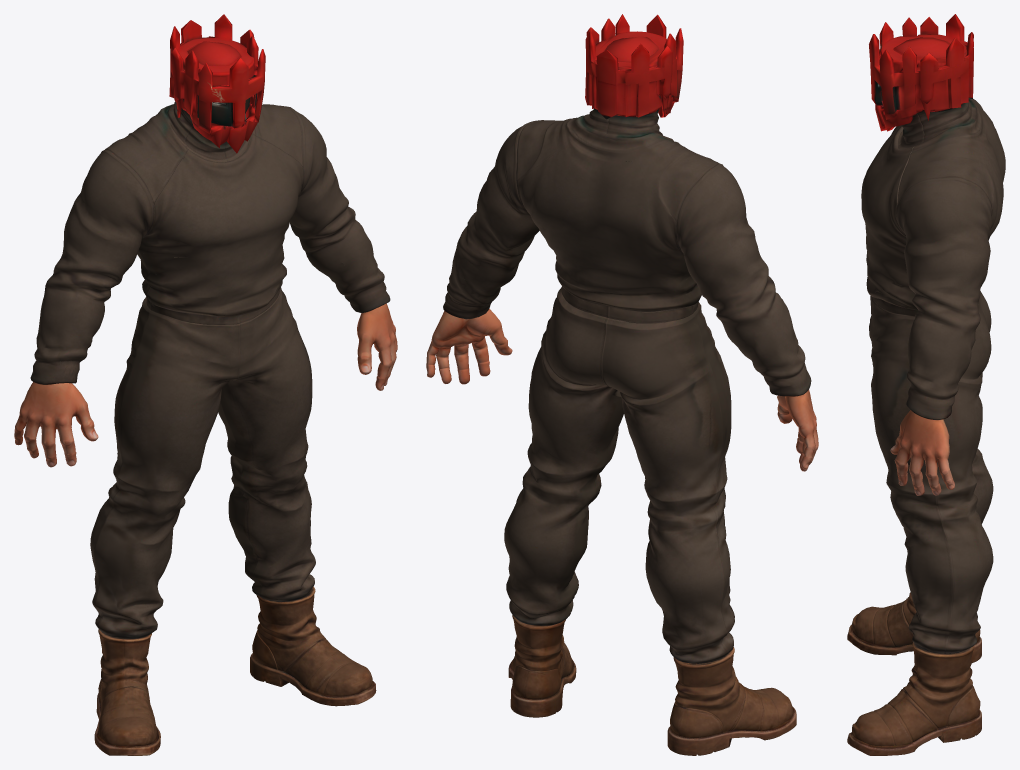
Rendered from eromash_sin_equipo_tripo_original.glb.
3 renders of one model, left to right at view 1: azimuth 30°, elevation 25°; view 2: azimuth 150°, elevation 25°; view 3: azimuth 270°, elevation 25°, orthographic. The views are drawn at different scales.
Parts seen in each view (by area): view 1: tripo_node_4609dec8-212e-494a-ae4b-e9b0fa109828; view 2: tripo_node_4609dec8-212e-494a-ae4b-e9b0fa109828; view 3: tripo_node_4609dec8-212e-494a-ae4b-e9b0fa109828.
Boxes of the visible parts, x1,y1,x2,y2 form: tripo_node_4609dec8-212e-494a-ae4b-e9b0fa109828: (14,14,397,755); tripo_node_4609dec8-212e-494a-ae4b-e9b0fa109828: (426,14,818,755); tripo_node_4609dec8-212e-494a-ae4b-e9b0fa109828: (847,14,1005,755).
Size of the model in its own units: 0.5874 by 0.9995 by 0.2153.
1 material, 1 textured.
